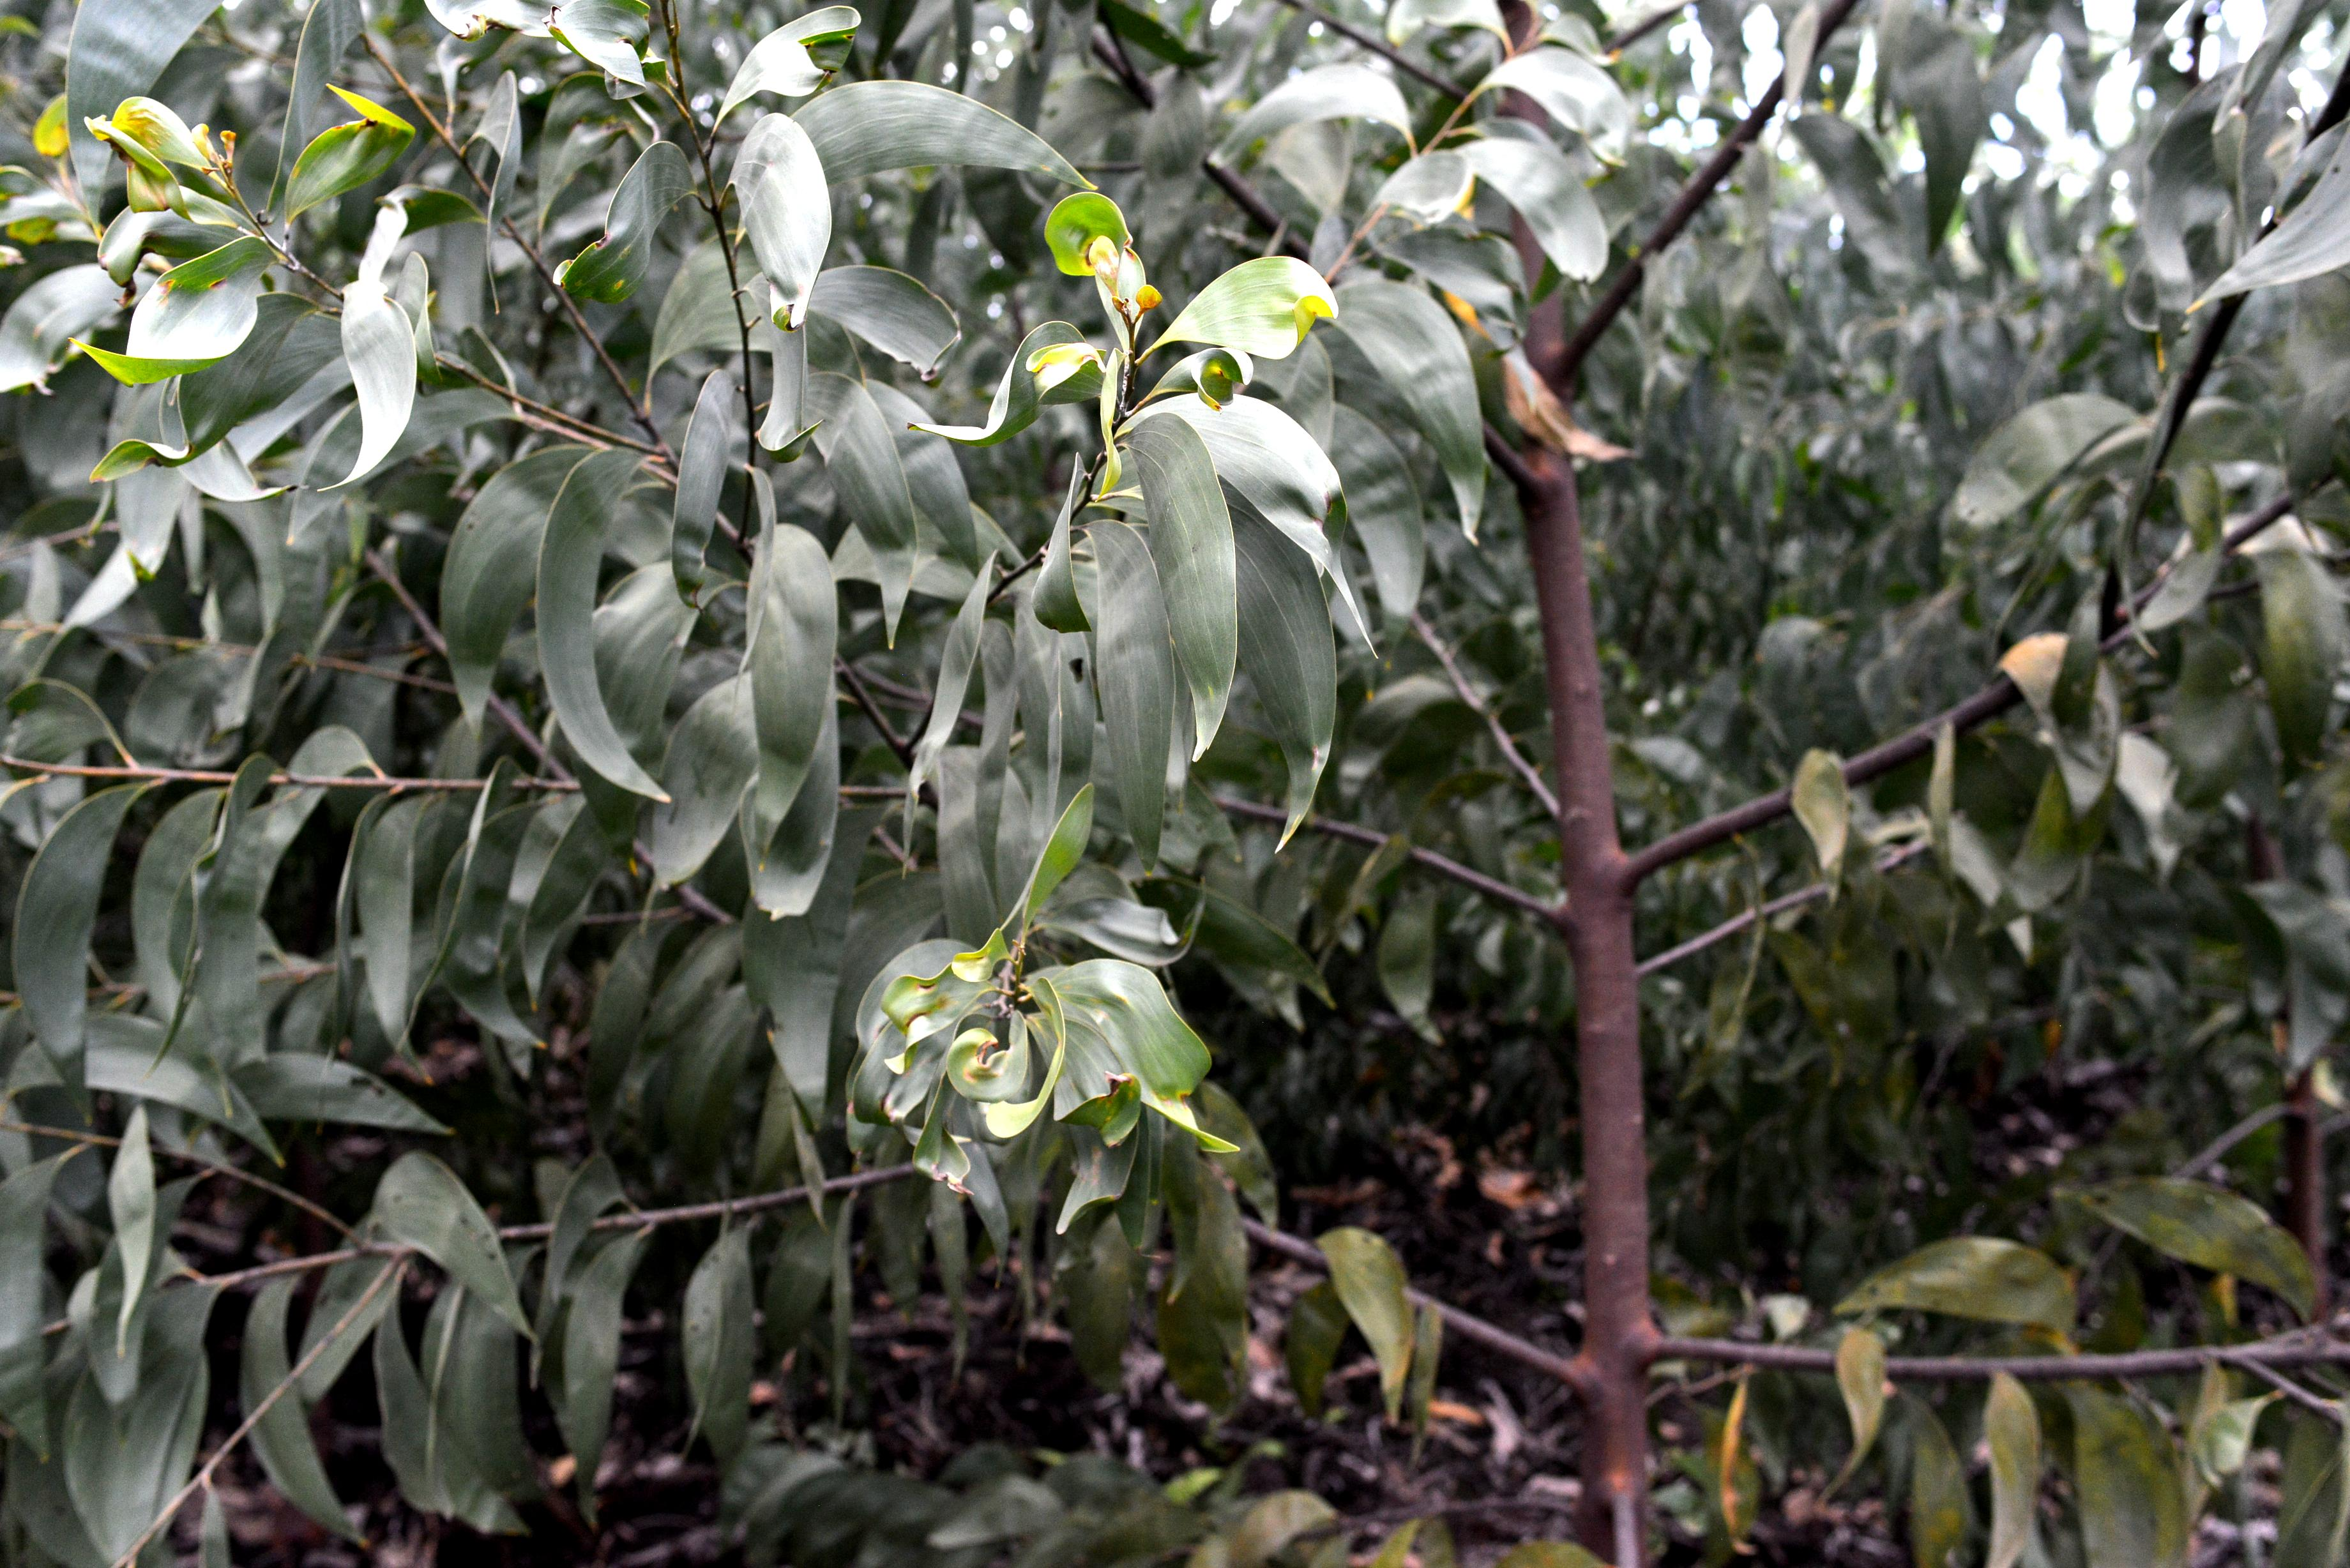Pasalora: (1067, 975, 1246, 1162), (73, 252, 275, 406), (1041, 817, 1255, 961), (924, 313, 1097, 455), (72, 77, 236, 224), (278, 61, 411, 210), (1169, 252, 1339, 362), (936, 1022, 1062, 1132), (847, 941, 936, 1046), (1045, 189, 1146, 280), (1162, 360, 1249, 437), (934, 920, 1017, 978)
